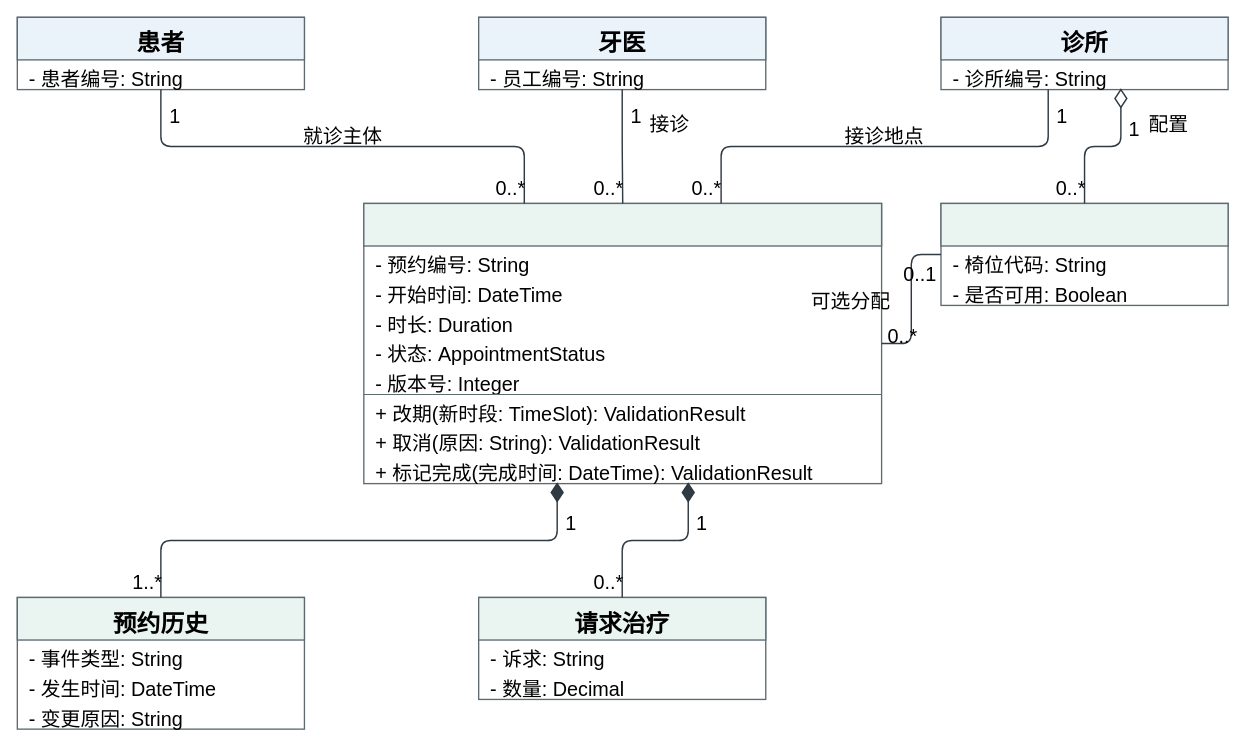
Image size: 1246x748. Some labels were removed from this diagram. Each missing label, with the box of its shape:
牙椅: (940, 202, 1228, 246)
预约: (363, 202, 882, 246)
